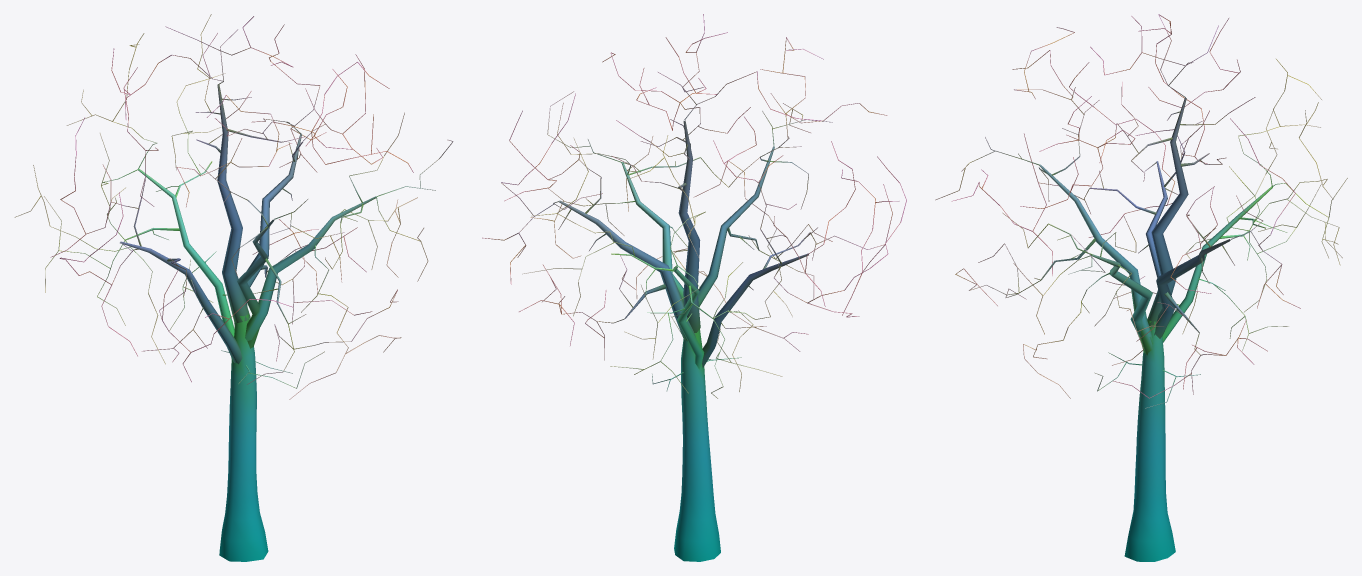
Rendered from oak-field-a.glb.
3 renders of one model, left to right at view 1: azimuth 30°, elevation 25°; view 2: azimuth 150°, elevation 25°; view 3: azimuth 270°, elevation 25°, orthographic. The views are drawn at different scales.
Parts seen in each view (by area): view 1: bark; view 2: bark; view 3: bark.
Part boxes in pixels (x1=…): bark: x1=14, y1=14, x2=453, y2=561; bark: x1=482, y1=14, x2=906, y2=561; bark: x1=935, y1=14, x2=1347, y2=561.
Bounding box in the file's own units: 8.46 × 11.88 × 8.26.
